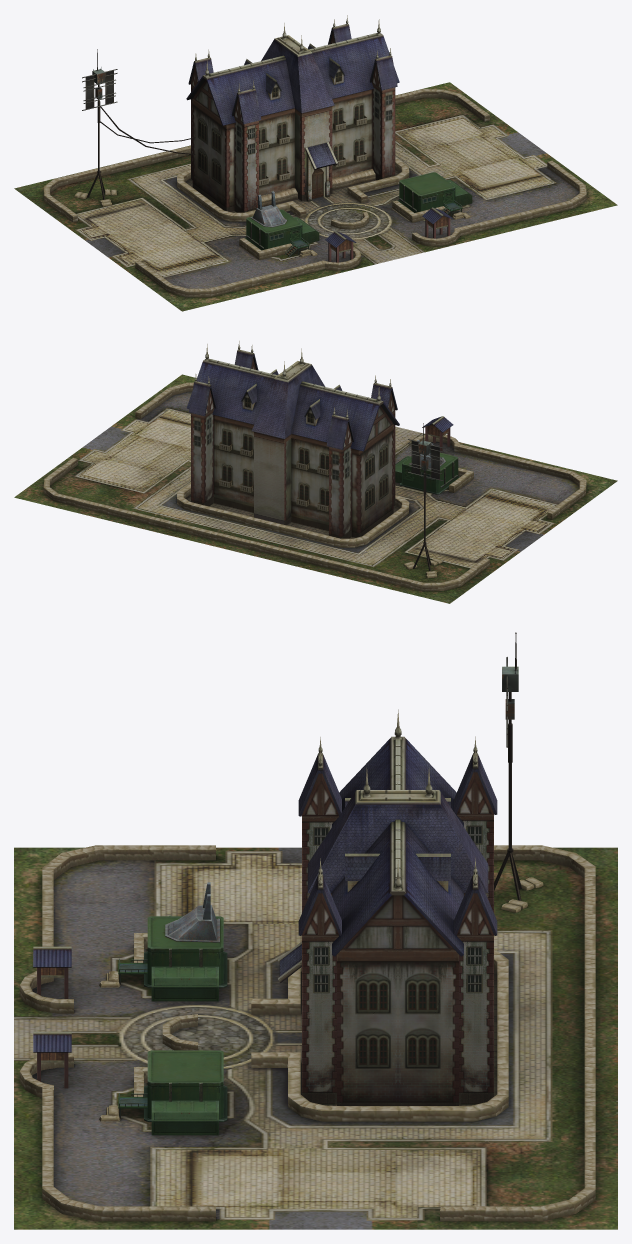
File: Dhz_TechnologyCentre_01.FBX
3 renders of one model, top to bottom at view 1: azimuth 30°, elevation 25°; view 2: azimuth 150°, elevation 25°; view 3: azimuth 270°, elevation 25°, orthographic. The views are drawn at different scales.
Visible parts, largest first — view 1: Dhz_TechnologyCentre_01; view 2: Dhz_TechnologyCentre_01; view 3: Dhz_TechnologyCentre_01.
Part boxes in pixels (box(x1,y1,x2,y2)): Dhz_TechnologyCentre_01: box(14, 15, 617, 311); Dhz_TechnologyCentre_01: box(14, 341, 617, 603); Dhz_TechnologyCentre_01: box(14, 632, 617, 1229).
Bounding box in the file's own units: 185 × 62.01 × 124.
